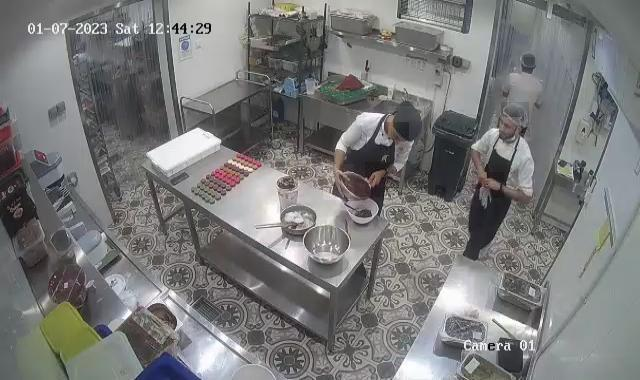gloves: (388, 106, 424, 146), (501, 102, 529, 133), (518, 50, 538, 76)
no_apron: (324, 164, 355, 200), (365, 162, 393, 198), (479, 173, 504, 199), (472, 164, 490, 189)
no_hairnet: (494, 117, 522, 149), (380, 123, 409, 150)
